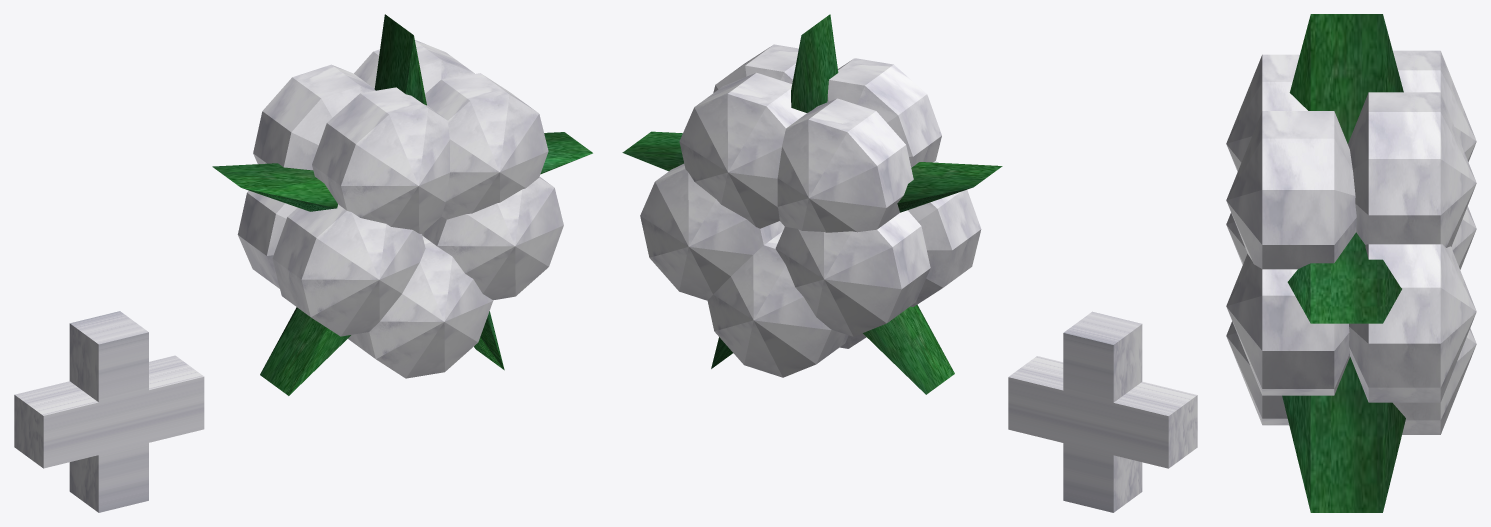
The model's file is Icon Gain Cotton.fbx.
3 views of the same model, side by side, from view 1: azimuth 30°, elevation 25°; view 2: azimuth 150°, elevation 25°; view 3: azimuth 270°, elevation 25° (orthographic). The views are drawn at different scales.
Visible parts, largest first — view 1: Icon_Cotton_Gain; view 2: Icon_Cotton_Gain; view 3: Icon_Cotton_Gain.
Boxes of the visible parts, x1,y1,x2,y2 form: Icon_Cotton_Gain: [14, 14, 592, 512]; Icon_Cotton_Gain: [622, 14, 1197, 512]; Icon_Cotton_Gain: [1226, 14, 1476, 512].
Bounding box in the file's own units: 10.92 × 7.64 × 3.47.
2 materials, 2 textured.
